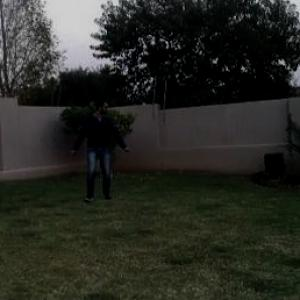land: (49, 78, 136, 217)
